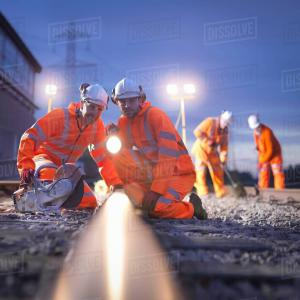white: (78, 83, 111, 126), (113, 80, 145, 120), (218, 110, 235, 132), (248, 114, 263, 136)
